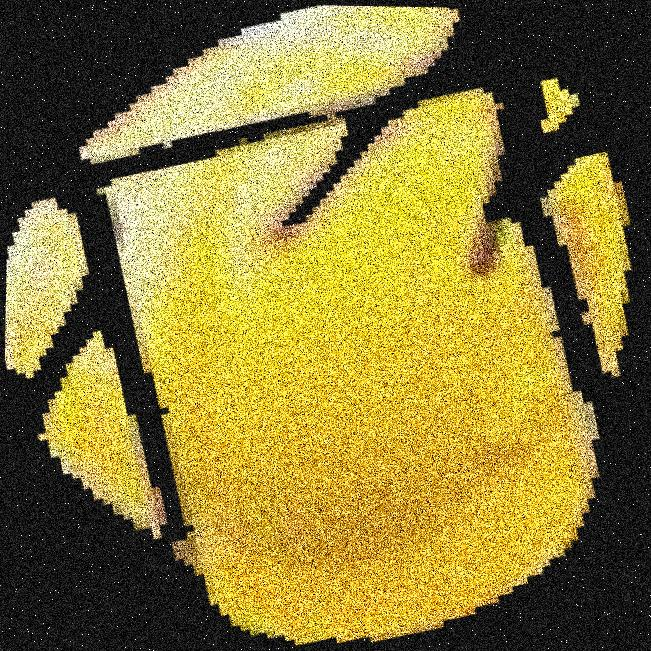Capacete: (127, 0, 575, 650)
